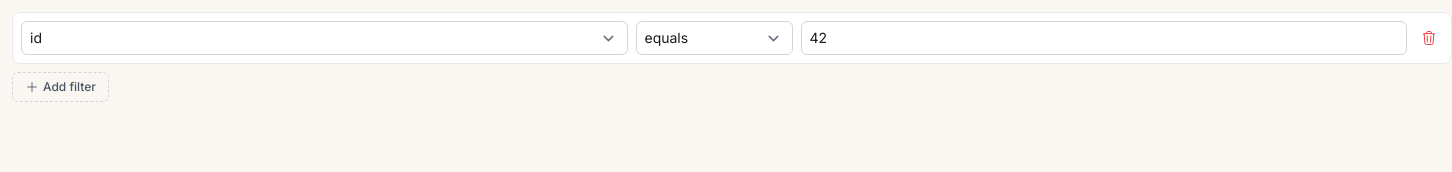
Test: FilterBuilder › removes a row when the trash button is clicked
expect the element with test id "filter-row-0" is shown: met, box [12,12,1451,64]
Click the button with test id "filter-remove-0" at (1429, 38), box [1415,24,1443,52]
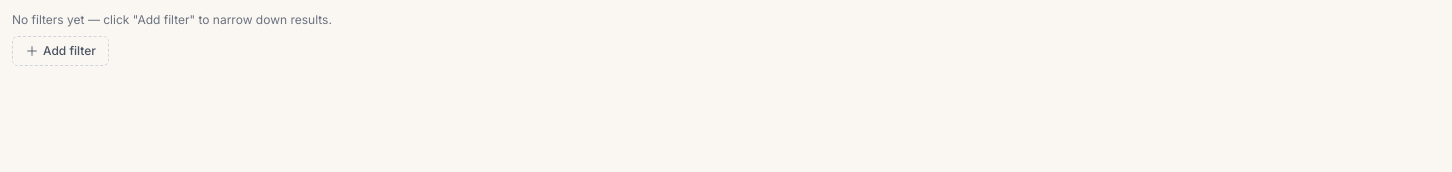
expect the element with test id "filter-row-0" is gone: met
expect the text "No filters yet — click \"Add filter\" to narrow down results." is shown: met, box [12,12,332,27]
